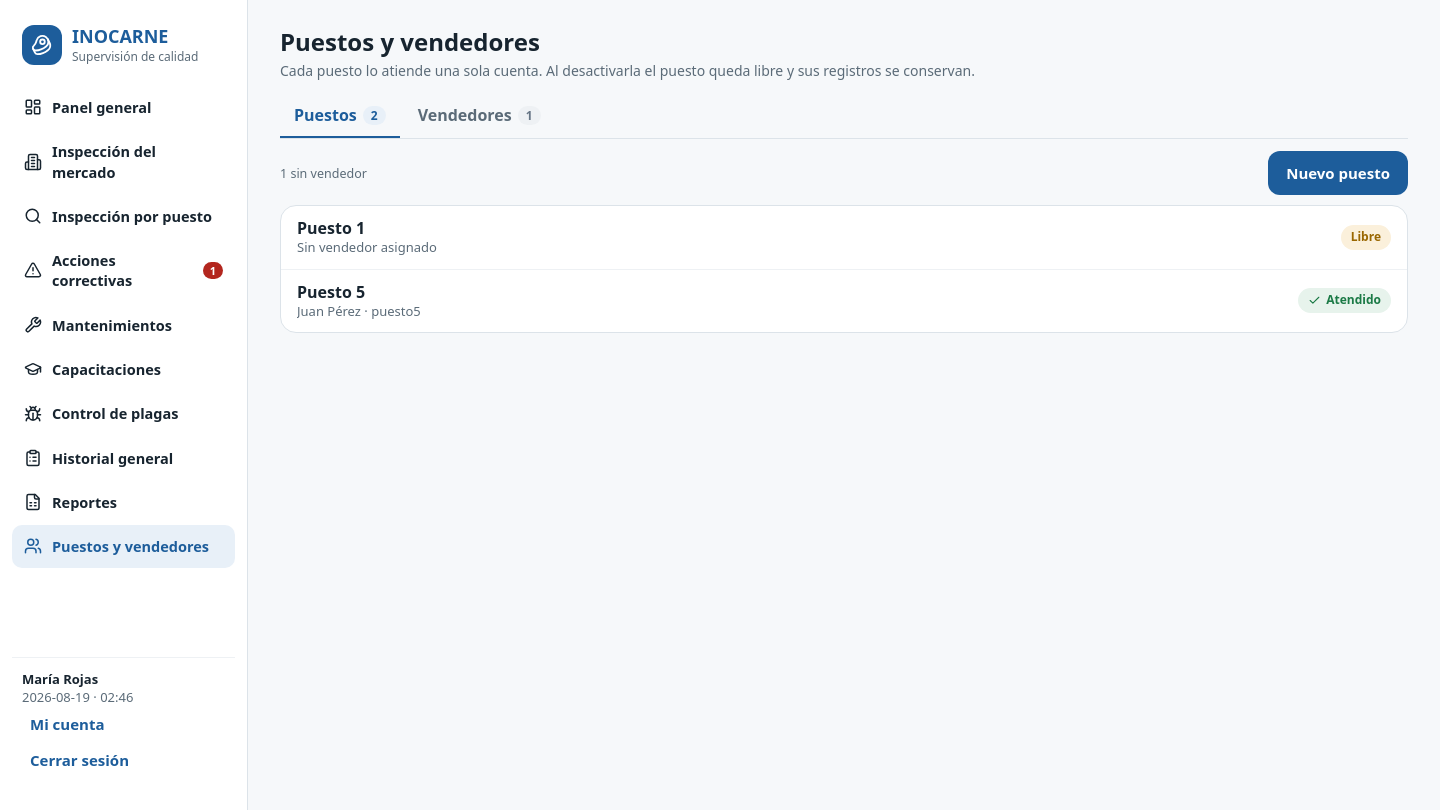
Test: puestos y vendedores › el botón abre el alta de puesto en un modal y Escape lo cierra
Click the button "Nuevo puesto".
click(1338, 173)  # box left=1268, top=151, right=1408, bottom=195
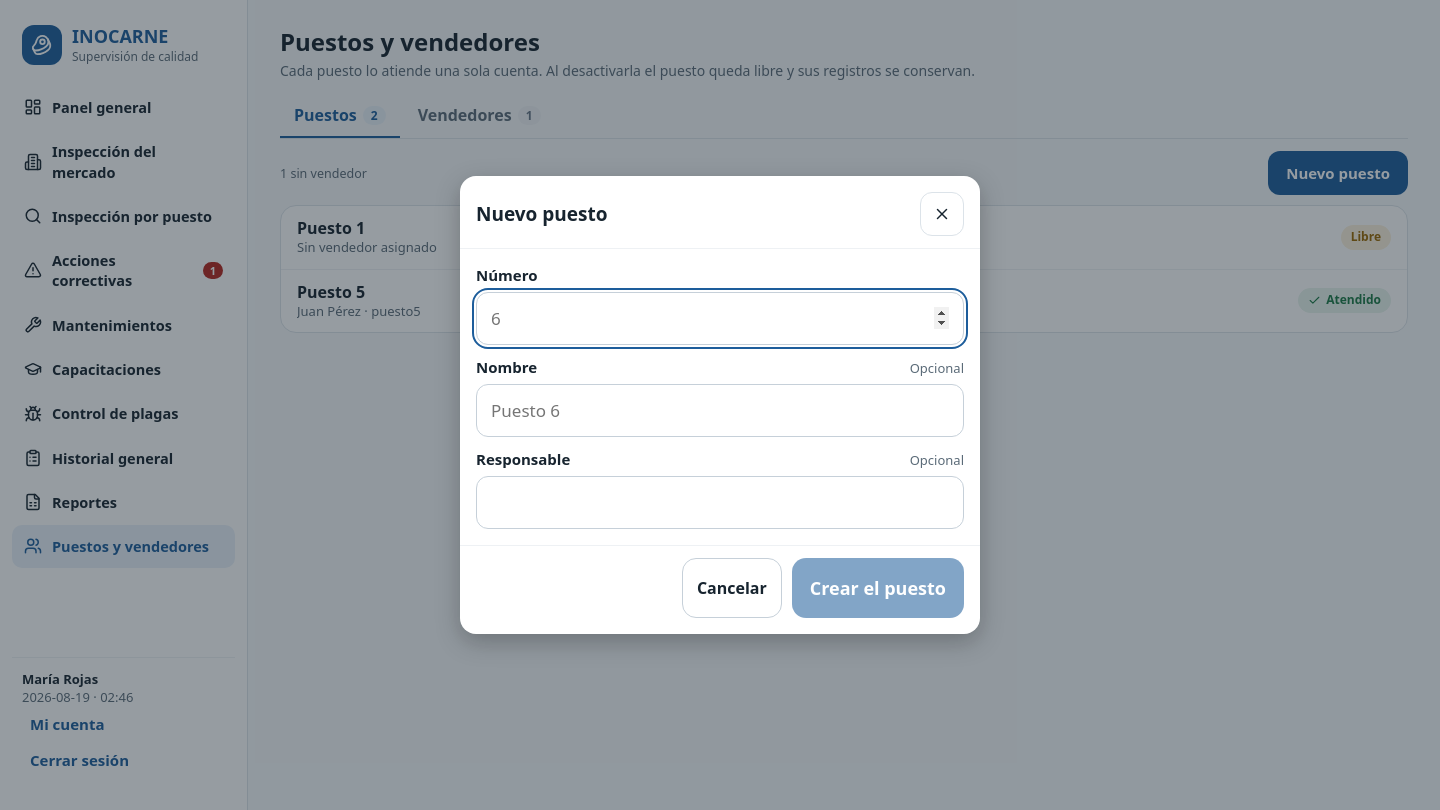
Expected: the number field labelled "Número" is shown, left=476, top=292, right=964, bottom=345
Press Escape
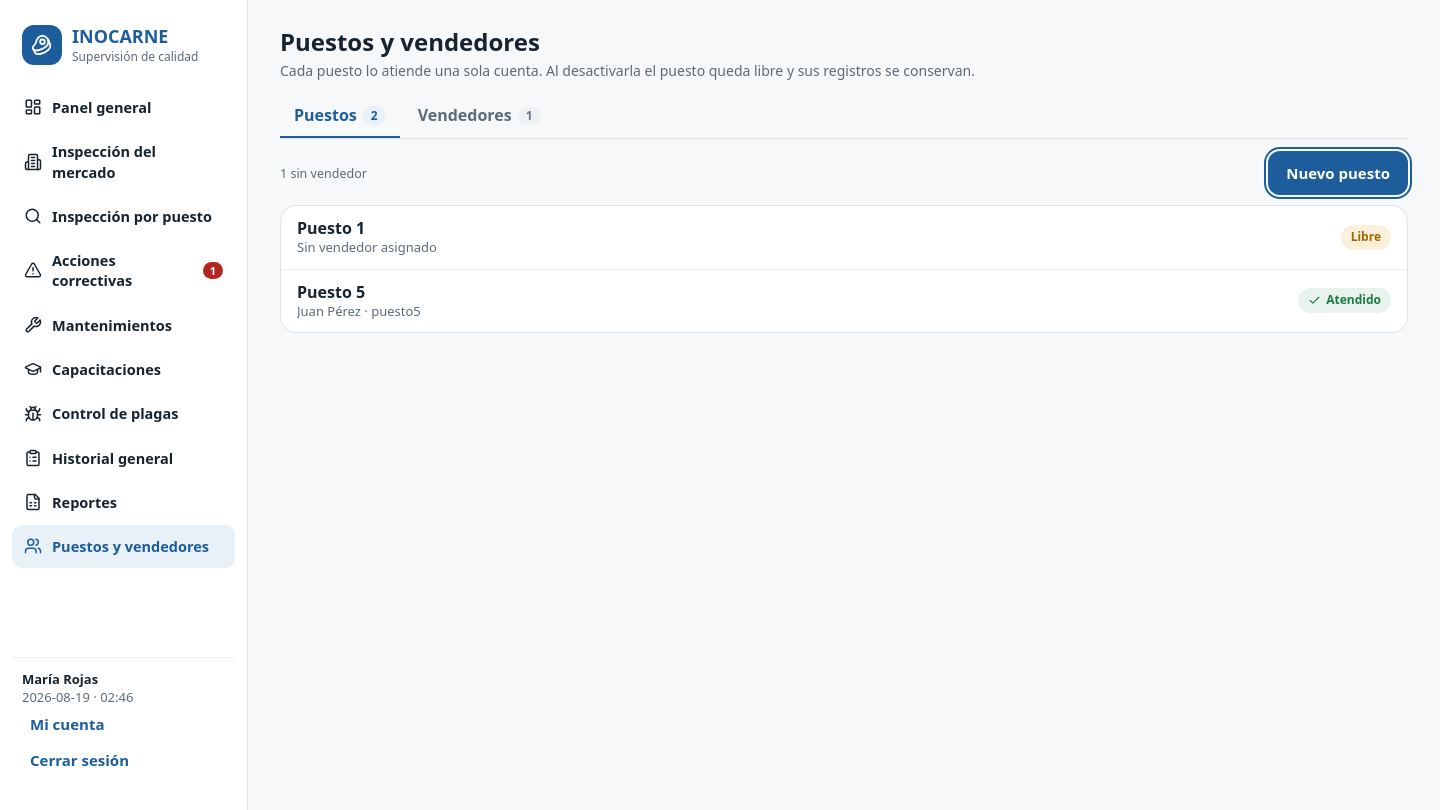
Expected: the dialog is gone
